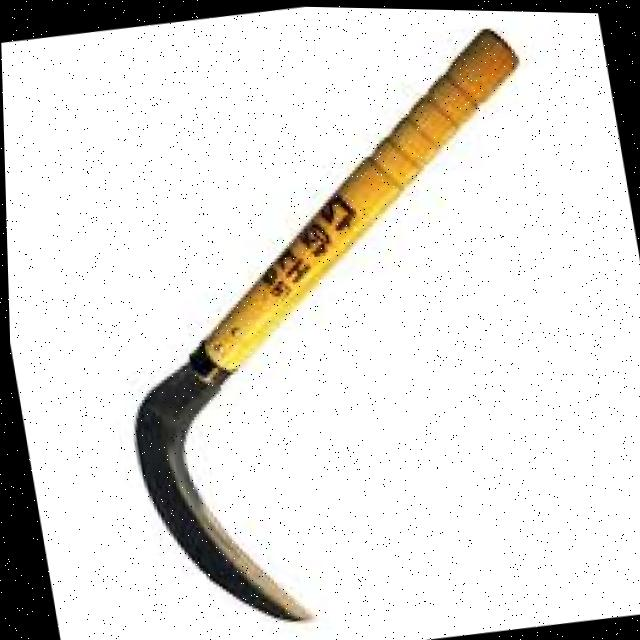sickle: (9, 43, 623, 640)
